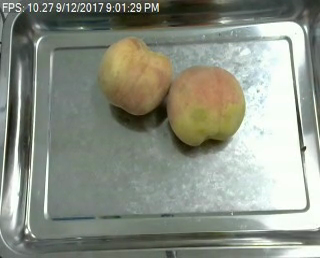Peach: (168, 64, 244, 145), (99, 35, 173, 114)
